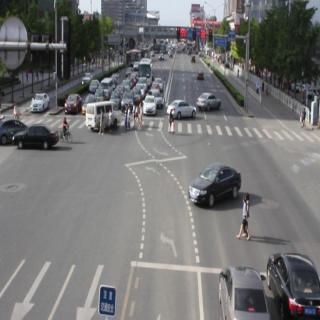BigCar: (136, 54, 156, 91)
Car: (262, 245, 320, 320), (212, 260, 272, 320), (185, 160, 245, 215), (12, 120, 57, 156), (82, 99, 122, 133), (166, 98, 198, 122), (195, 88, 224, 113), (29, 83, 50, 116), (64, 89, 83, 117), (141, 94, 159, 119)
